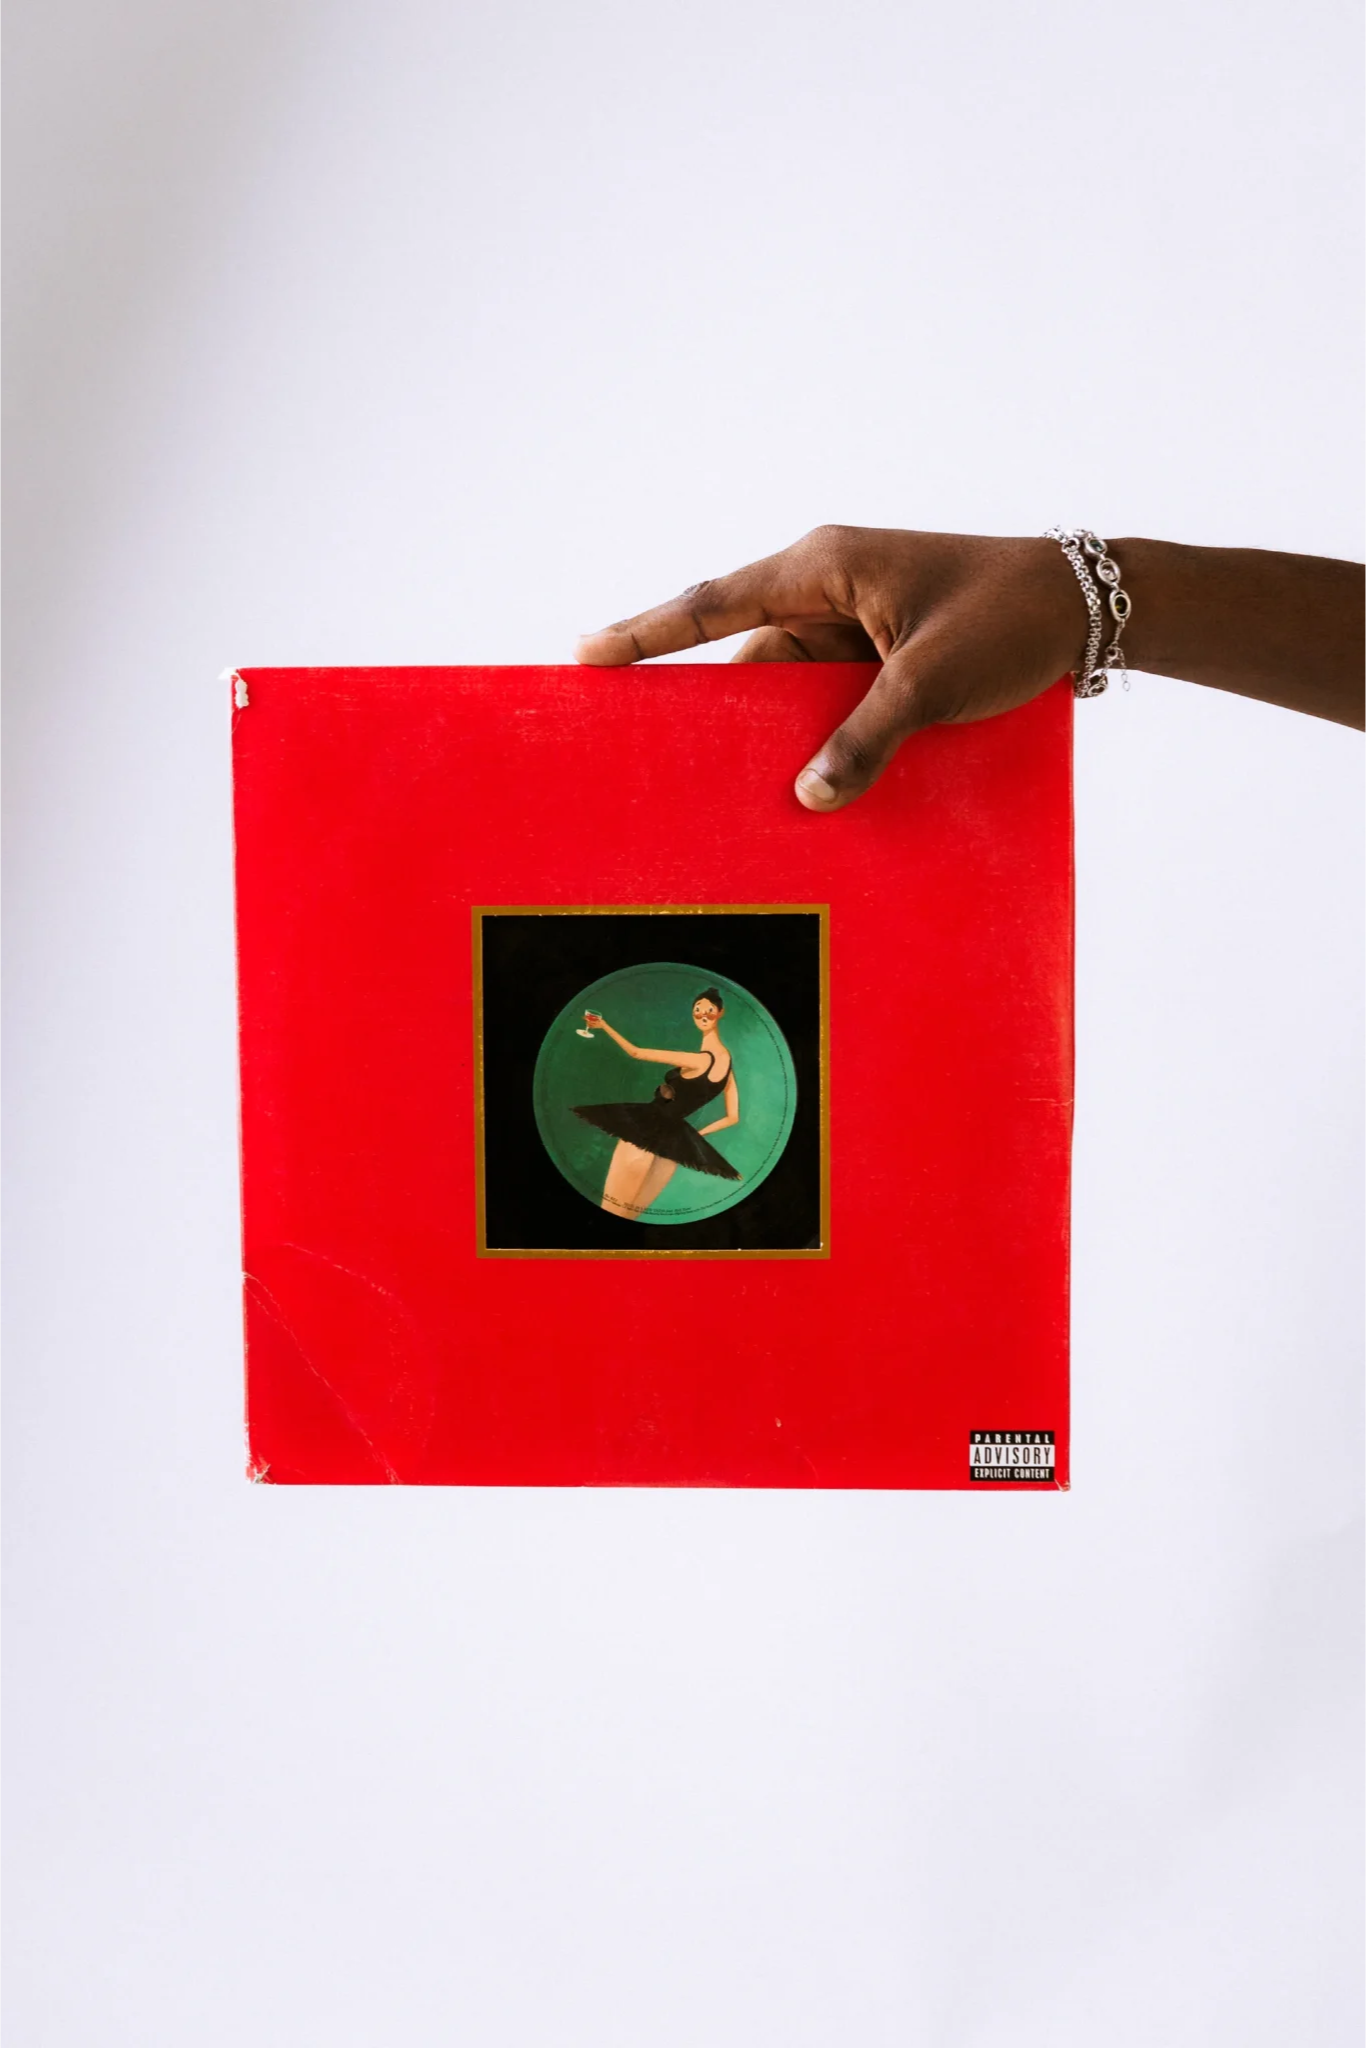kanye west_my beautiful dark twisted fantasy: (209, 654, 1089, 1506)
